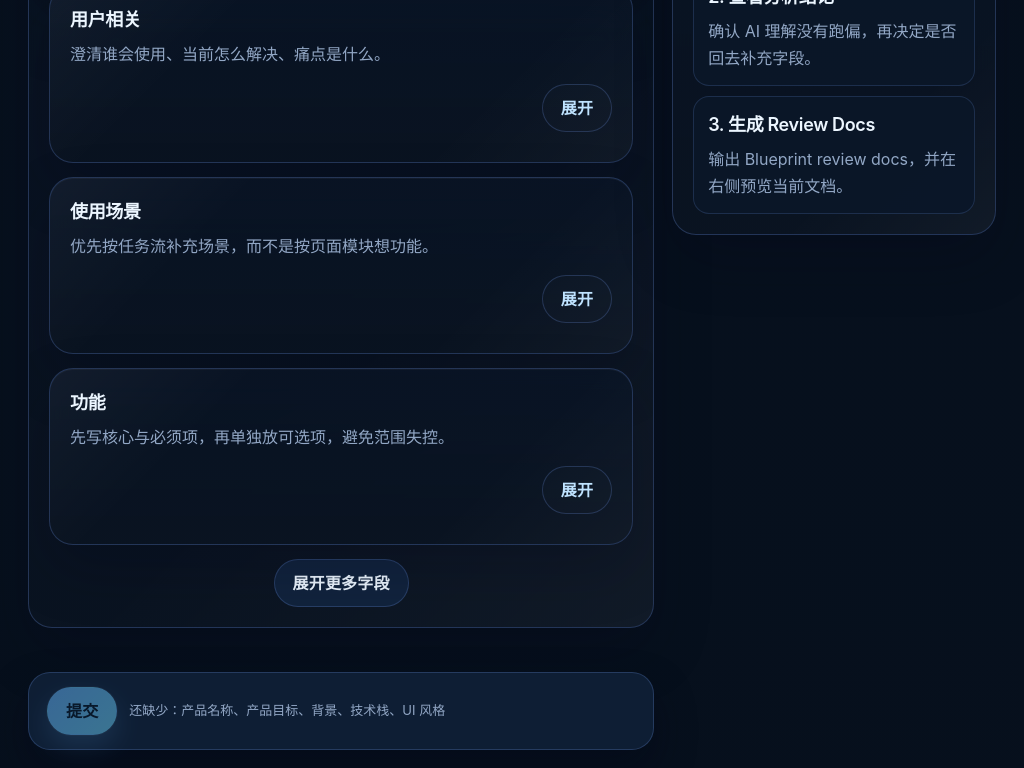
Test: App › reveals optional sections in batches of three
The width and height of the screenshot is (1024, 768).
(page scrolled)
Expected: the heading "用户相关" is shown, [70, 9, 141, 30]
Expected: the heading "使用场景" is shown, [70, 200, 141, 222]
Click the button "展开更多字段" at point(341, 583), box [274, 559, 409, 607]
(page scrolled)
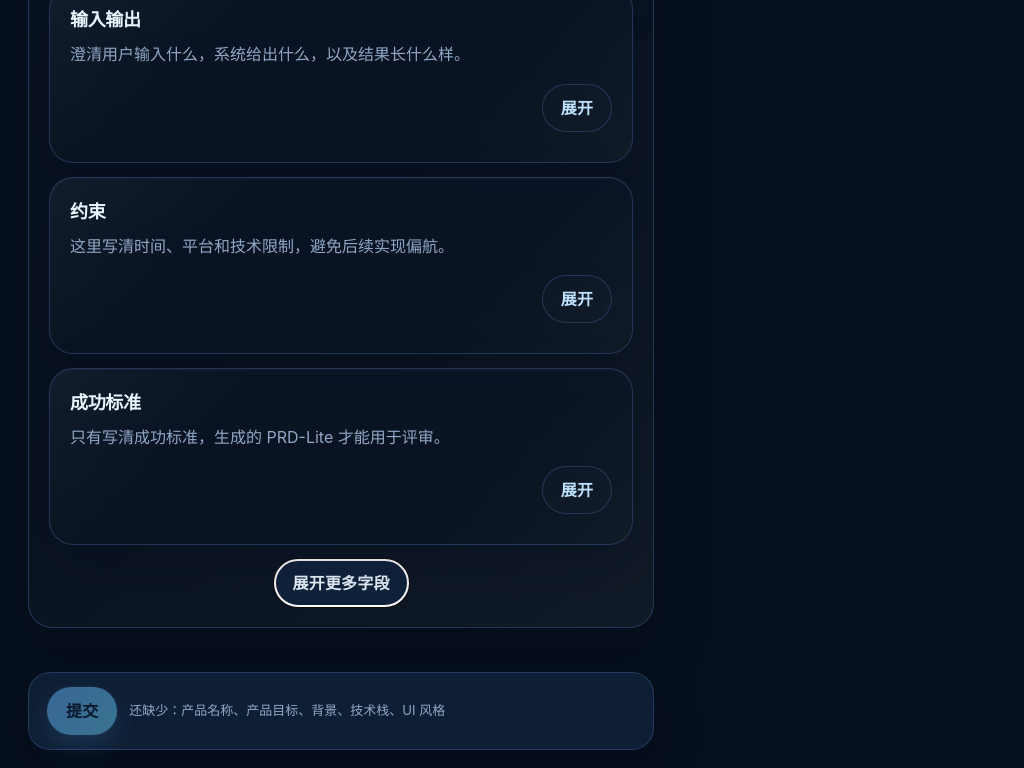
Expected: the heading "输入输出" is shown, [70, 9, 141, 30]
Expected: the heading "约束" is shown, [70, 201, 105, 222]
Expected: the heading "成功标准" is shown, [70, 392, 141, 413]
